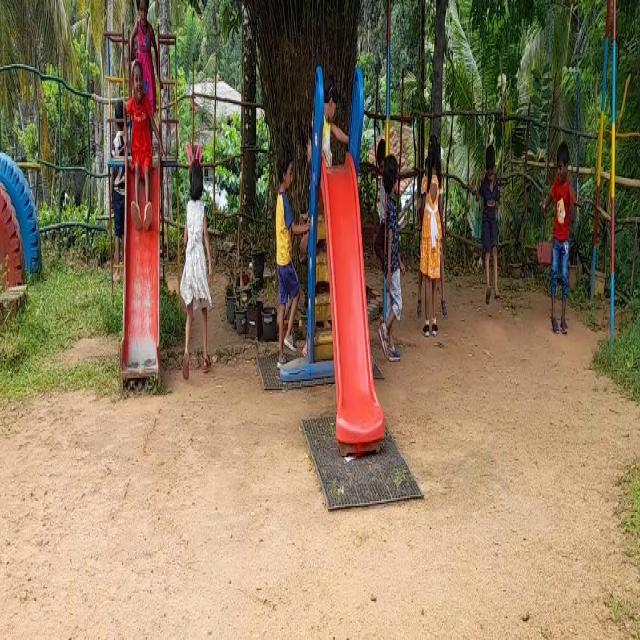child: (271, 139, 300, 375), (546, 121, 576, 344), (184, 142, 211, 378), (475, 127, 507, 316), (420, 140, 446, 349), (127, 61, 157, 239), (381, 147, 405, 359)
